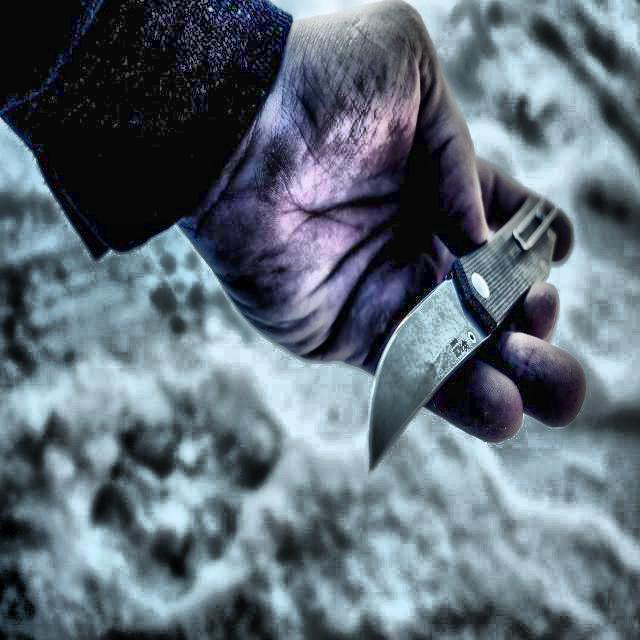knife: (366, 202, 557, 474)
